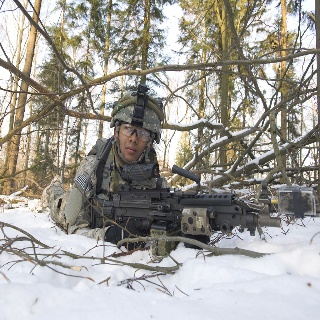rifle: (87, 160, 284, 250)
